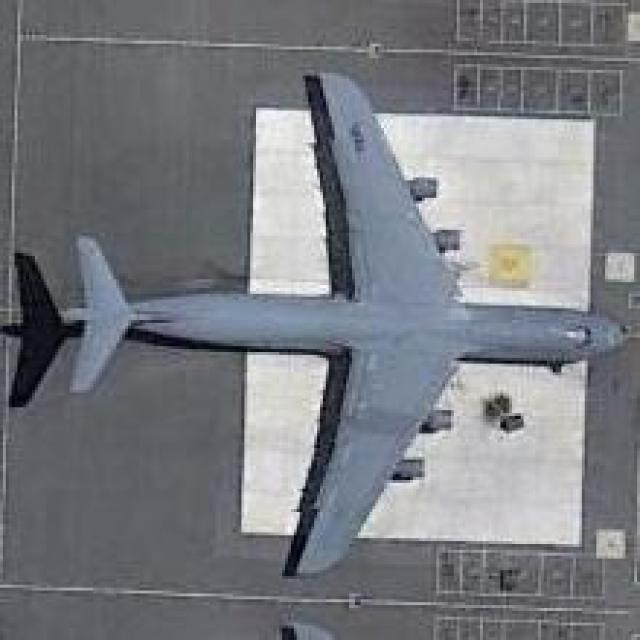C-5_TopDown: (0, 68, 634, 580)
